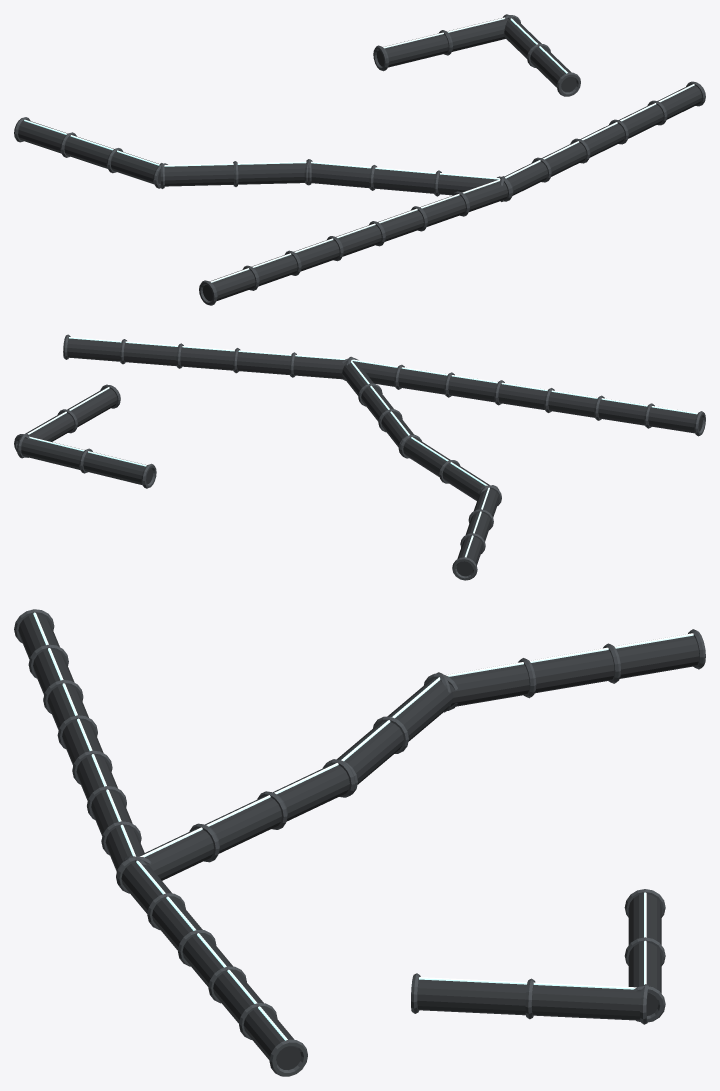
File: moon_pipes.glb
3 views of the same model, one above another, from view 1: azimuth 30°, elevation 25°; view 2: azimuth 150°, elevation 25°; view 3: azimuth 270°, elevation 25° (orthographic). The views are drawn at different scales.
Visible parts, largest first — view 1: MoonPipes; view 2: MoonPipes; view 3: MoonPipes.
Boxes of the visible parts, left/top/right/bottom form: MoonPipes: left=14, top=14, right=705, bottom=305; MoonPipes: left=14, top=334, right=705, bottom=580; MoonPipes: left=14, top=609, right=705, bottom=1076.
Size of the model in its own units: 40.61 by 1.61 by 27.18.
